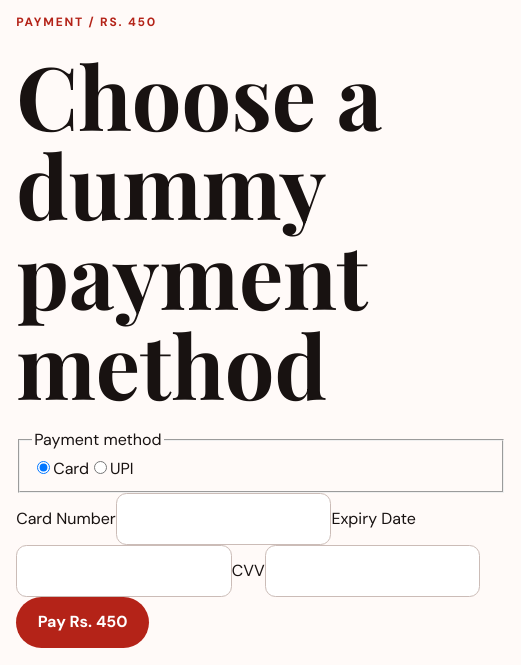
Test: payment page › switches Card and UPI fields without retaining the prior dummy input
The width and height of the screenshot is (521, 665).
Type "4111" into the field labelled "Card Number" at (224, 519), box [116, 493, 331, 545]
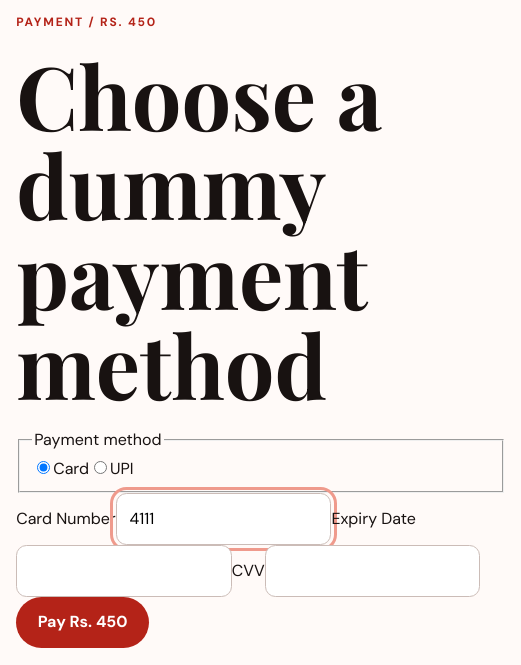
Click the radio button labelled "UPI" at (100, 468), box [94, 461, 107, 474]
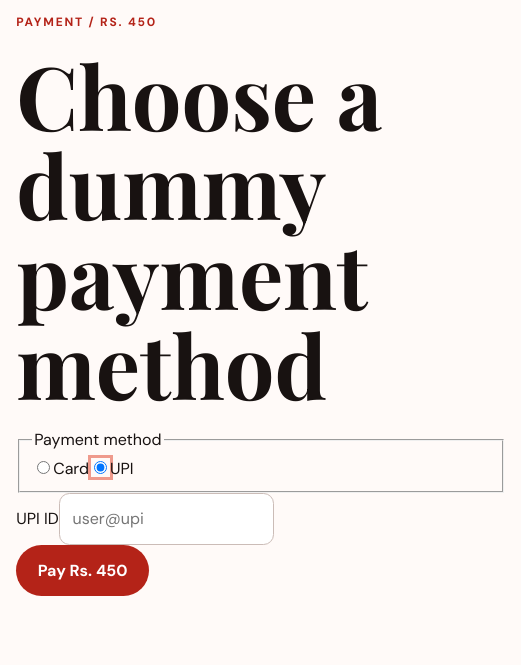
Expected: the field labelled "UPI ID" is shown, [59, 493, 274, 545]
Now the label labelled "Card Number" is gone
